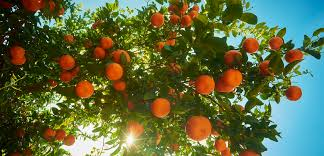orange: (184, 115, 215, 142), (222, 68, 245, 87), (75, 81, 94, 103), (152, 98, 173, 117), (197, 75, 217, 94), (103, 64, 122, 81)
